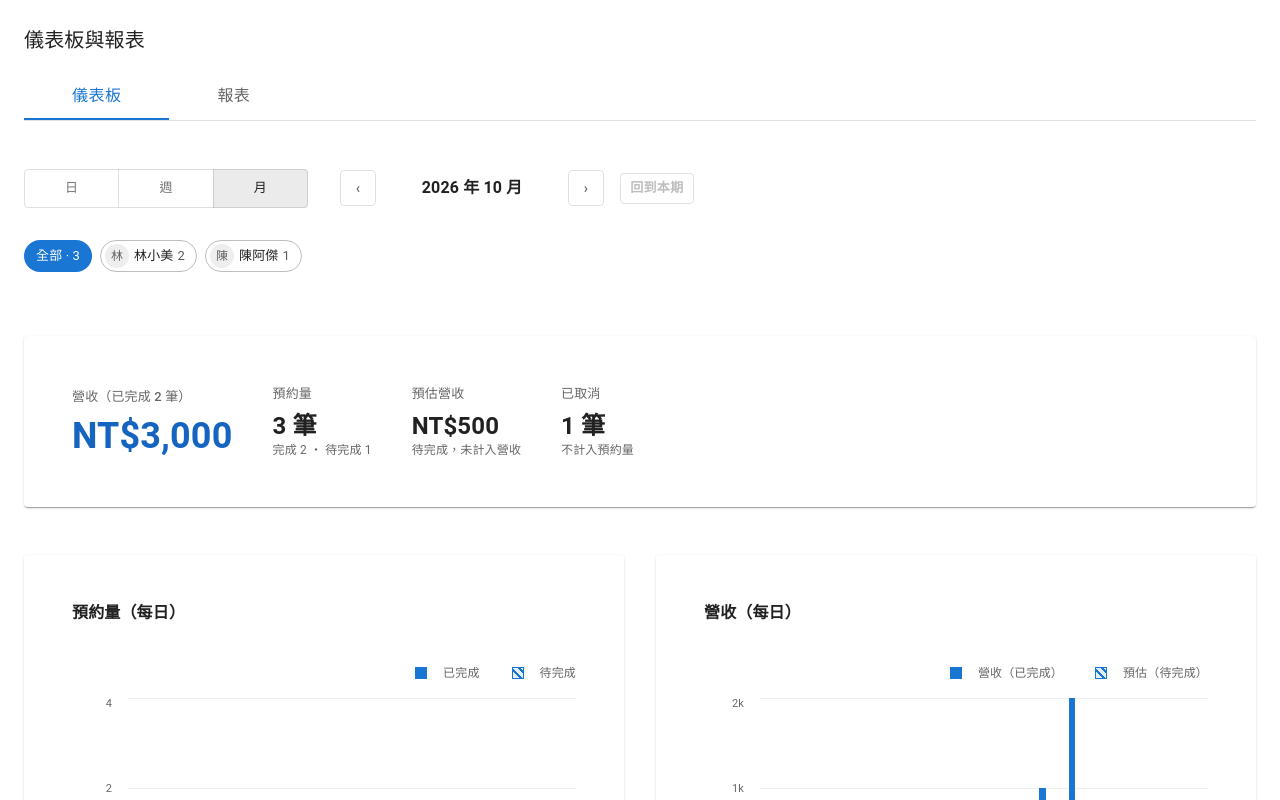
Test case: ReportsView › 只有期間改變才重新查詢 › 切換期間時保留設計師勾選
The width and height of the screenshot is (1280, 800).
Check: the text "NT$3,000" is shown, box [72,414,232,459]
Step 1. Click the button "陳 陳阿傑 1" → [253, 256], box [205,240,302,272]
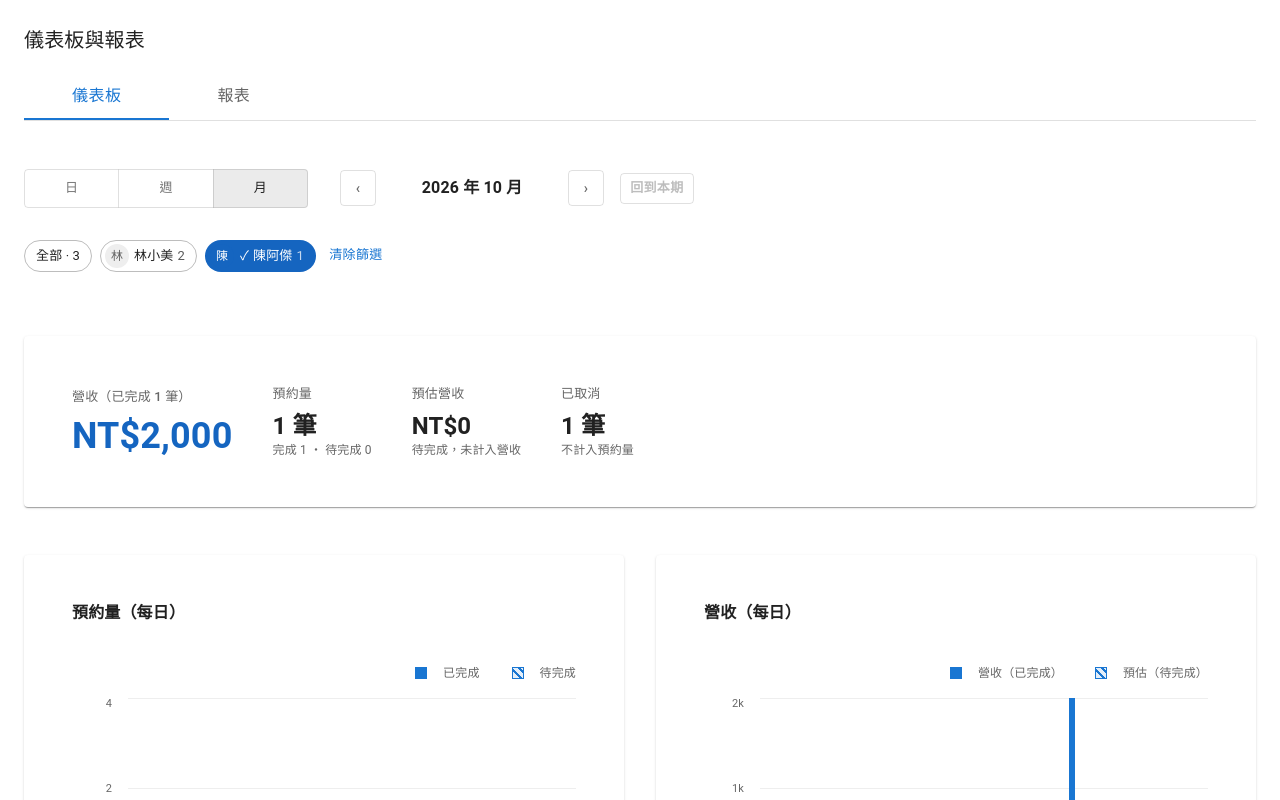
Step 2. Click the button named "下一個月" → [586, 188], box [568,170,604,206]
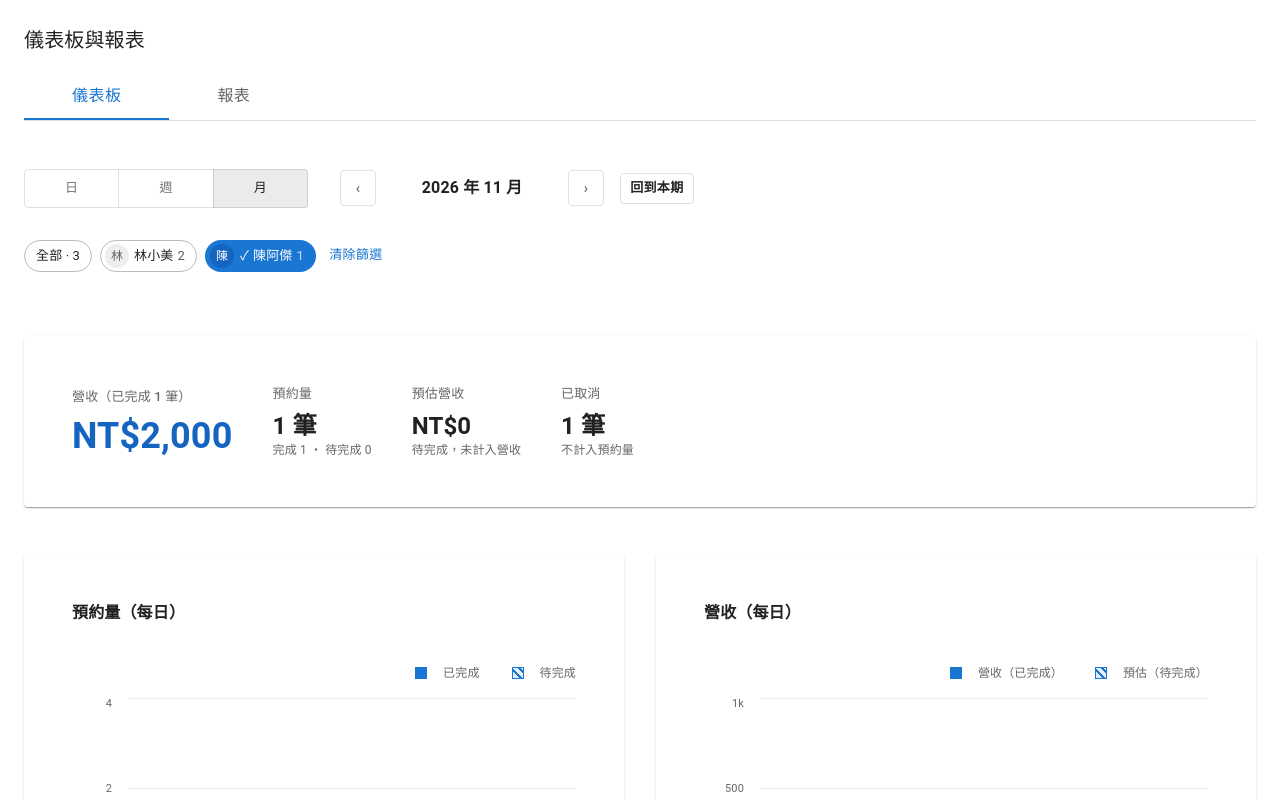
Check: the button "清除篩選" is shown, box [324,240,388,271]
Check: the text "2026 年 11 月" is shown, box [422,178,522,197]
